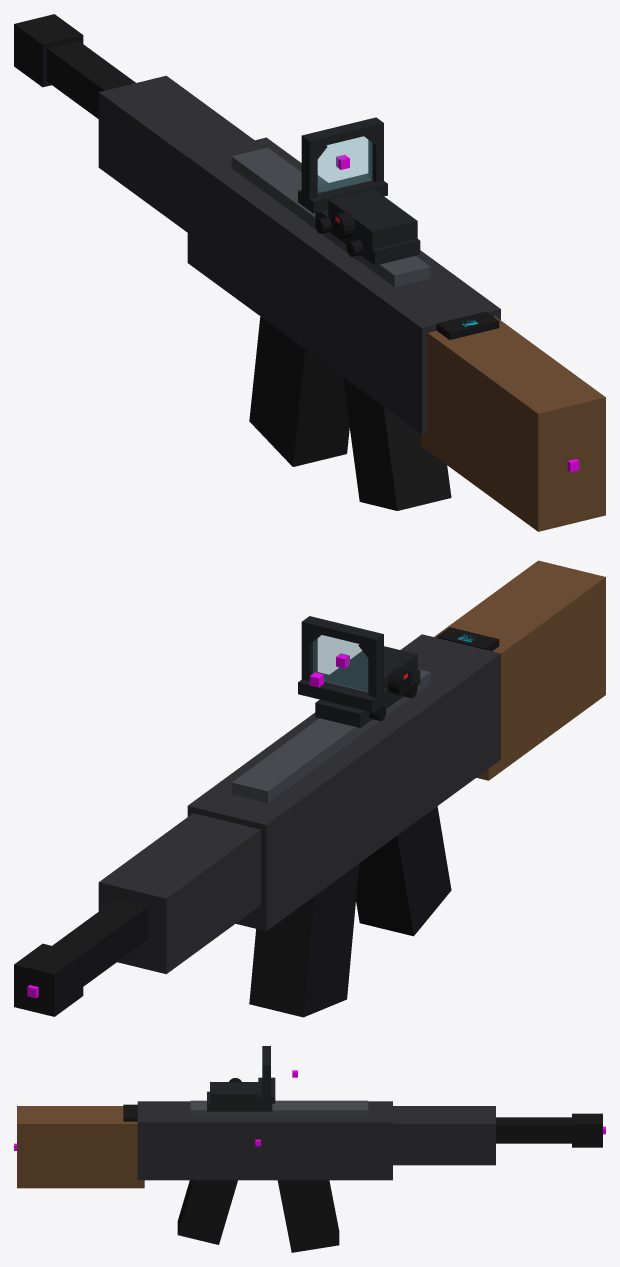
The model's file is Rifle.obj.
3 views of the same model, one above another, from view 1: azimuth 30°, elevation 25°; view 2: azimuth 150°, elevation 25°; view 3: azimuth 270°, elevation 25° (orthographic). The views are drawn at different scales.
Visible parts, largest first — view 1: Skin_Body, Skin_Stock, Skin_Handguard, Magazine, Grip, Rail, Barrel, DotBody, Muzzle, Glass_DotGlass, DotHoodBase, DotHoodTop (+4 smaller); view 2: Skin_Body, Skin_Stock, Skin_Handguard, Magazine, Grip, Rail, Barrel, Muzzle, Glass_DotGlass, DotHoodBase, DotBody, DotMount (+4 smaller); view 3: Skin_Body, Skin_Stock, Skin_Handguard, Magazine, Grip, Rail, Barrel, Muzzle, DotBody, DotMount, DotHoodBase.
Part boxes in pixels (x1,y1,x2,y2): Skin_Body: [187, 137, 500, 434]; Skin_Stock: [421, 316, 605, 531]; Skin_Handguard: [98, 75, 254, 232]; Magazine: [249, 316, 349, 466]; Grip: [343, 377, 451, 510]; Rail: [231, 147, 430, 287]; Barrel: [47, 41, 135, 118]; DotBody: [328, 188, 417, 249]; Muzzle: [14, 14, 83, 87]; Glass_DotGlass: [318, 136, 372, 193]; DotHoodBase: [298, 173, 387, 213]; DotHoodTop: [301, 117, 383, 148]; Skin_Body: [187, 634, 500, 931]; Skin_Stock: [434, 560, 605, 780]; Skin_Handguard: [98, 813, 260, 974]; Magazine: [249, 864, 359, 1017]; Grip: [356, 806, 451, 936]; Rail: [231, 669, 430, 802]; Barrel: [52, 898, 148, 986]; Muzzle: [14, 943, 83, 1016]; Glass_DotGlass: [313, 635, 367, 691]; DotHoodBase: [298, 672, 387, 712]; DotBody: [330, 646, 417, 693]; DotMount: [315, 669, 420, 727]; Skin_Body: [137, 1101, 392, 1180]; Skin_Stock: [17, 1106, 144, 1188]; Skin_Handguard: [393, 1106, 495, 1165]; Magazine: [277, 1180, 339, 1252]; Grip: [177, 1180, 237, 1244]; Rail: [190, 1100, 368, 1116]; Barrel: [496, 1117, 571, 1143]; Muzzle: [572, 1113, 602, 1147]; DotBody: [210, 1082, 258, 1103]; DotMount: [207, 1091, 272, 1111]; DotHoodBase: [258, 1077, 275, 1103].
Size of the model in its own units: 0.375 by 1.47 by 4.17.
